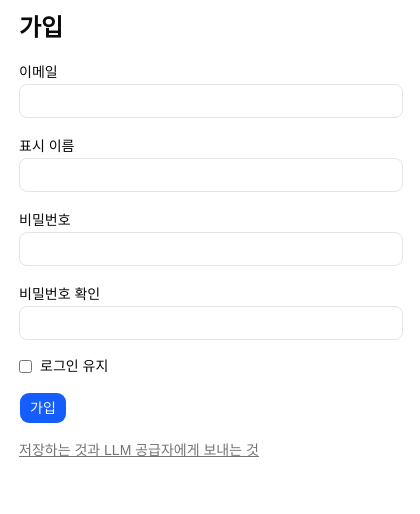
Test: SignUpPage › 같은 이메일의 계정이 있으면 가입할 수 없는 이메일이라고만 한다
In the field labelled "이메일": (211, 101) [19,84,403,118], type "kim@example.com"
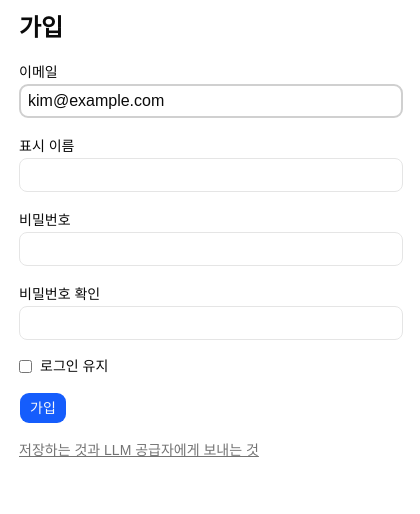
In the field labelled "표시 이름": (211, 175) [19,158,403,192], type "김요즘"
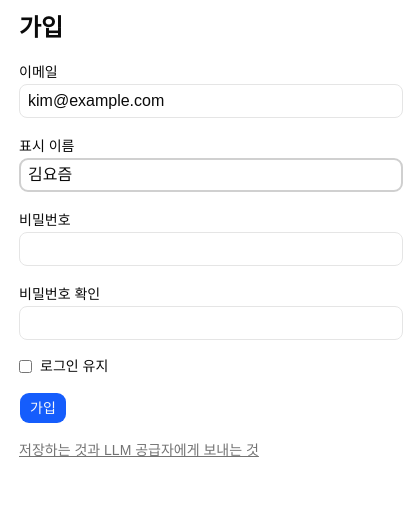
In the password field labelled "비밀번호": (211, 249) [19,232,403,266], type "correct horse"
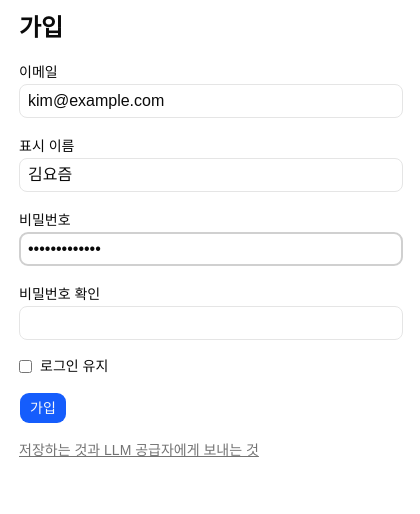
In the password field labelled "비밀번호 확인": (211, 323) [19,306,403,340], type "correct horse"
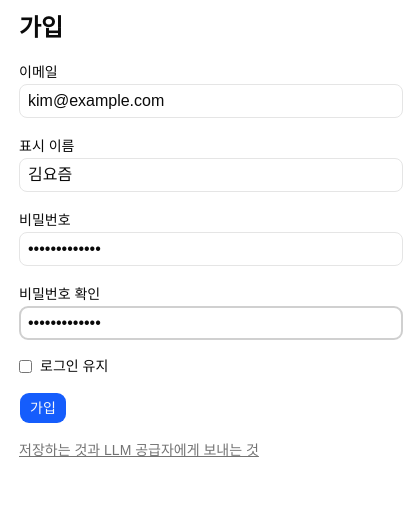
Click the checkbox labelled "로그인 유지": (26, 366) [19,360,32,372]
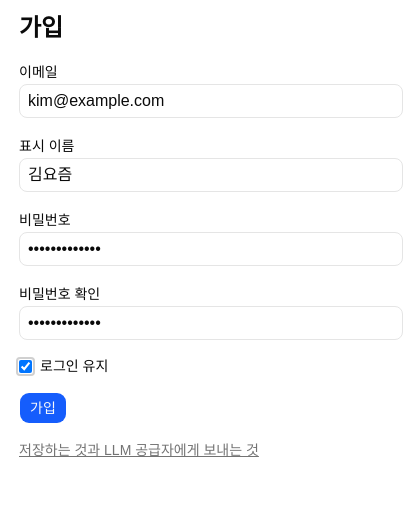
Click the button "가입": (43, 408) [19,392,67,424]
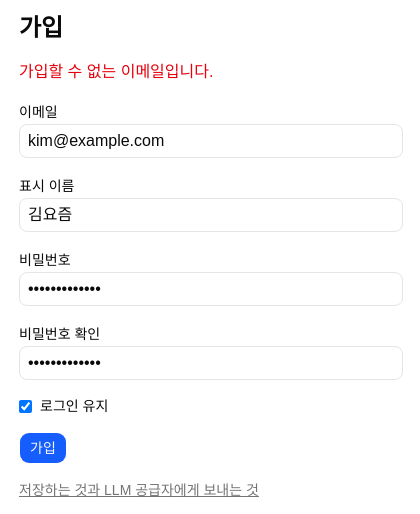
expect the message reads "가입할 수 없는 이메일입니다.": met, box [19,63,213,80]
